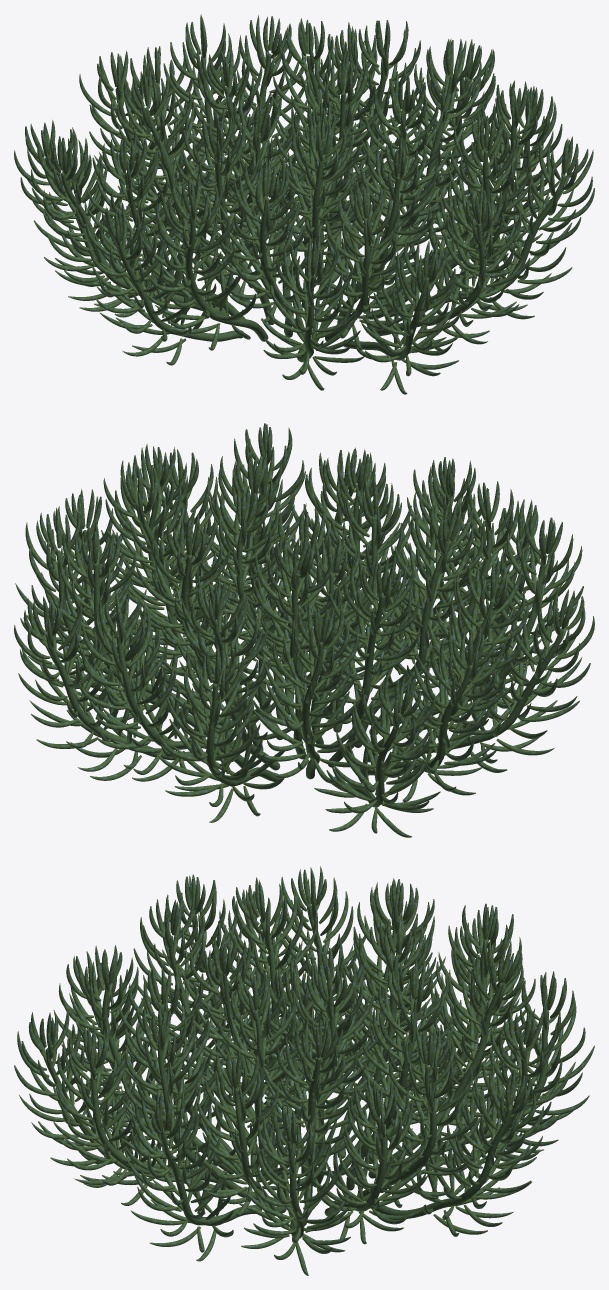
File: senecio_1.fbx
3 renders of one model, top to bottom at view 1: azimuth 30°, elevation 25°; view 2: azimuth 150°, elevation 25°; view 3: azimuth 270°, elevation 25°, orthographic. The views are drawn at different scales.
Parts seen in each view (by area): view 1: Senecio_m__A001; view 2: Senecio_m__A001; view 3: Senecio_m__A001.
Boxes of the visible parts, x1,y1,x2,y2 form: Senecio_m__A001: (14, 14, 594, 394); Senecio_m__A001: (14, 423, 594, 837); Senecio_m__A001: (14, 866, 594, 1275).
Bounding box in the file's own units: 657 × 314 × 660.
